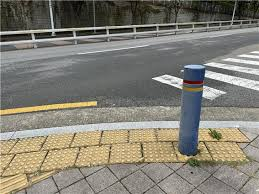guide_blocks: (1, 142, 248, 162), (47, 127, 251, 145)
